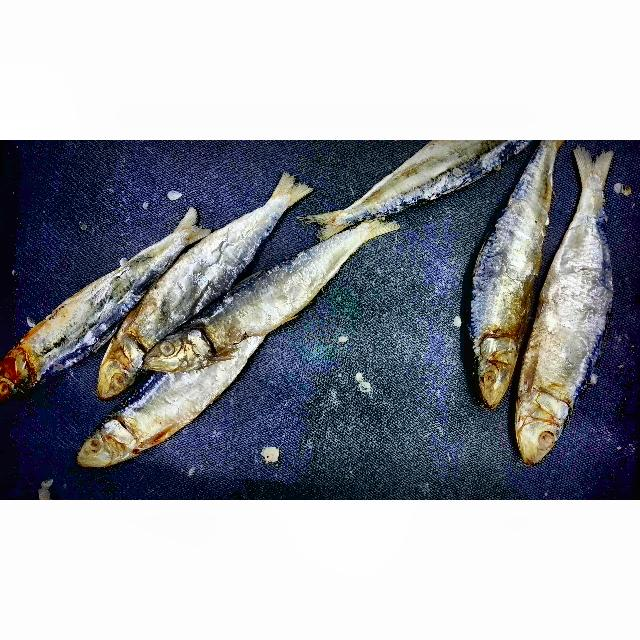Grade_C_Body: (517, 220, 625, 382), (141, 215, 263, 331), (35, 250, 154, 359), (224, 240, 340, 349), (360, 140, 510, 219), (465, 188, 551, 322), (124, 355, 240, 449)
Grade_C_Head: (508, 383, 578, 468), (141, 311, 229, 377), (73, 406, 138, 477), (92, 329, 154, 400), (468, 330, 521, 411)
Grade_C_Tail: (251, 166, 310, 223), (568, 143, 614, 212), (339, 212, 401, 258), (161, 201, 212, 252), (314, 194, 368, 239)
